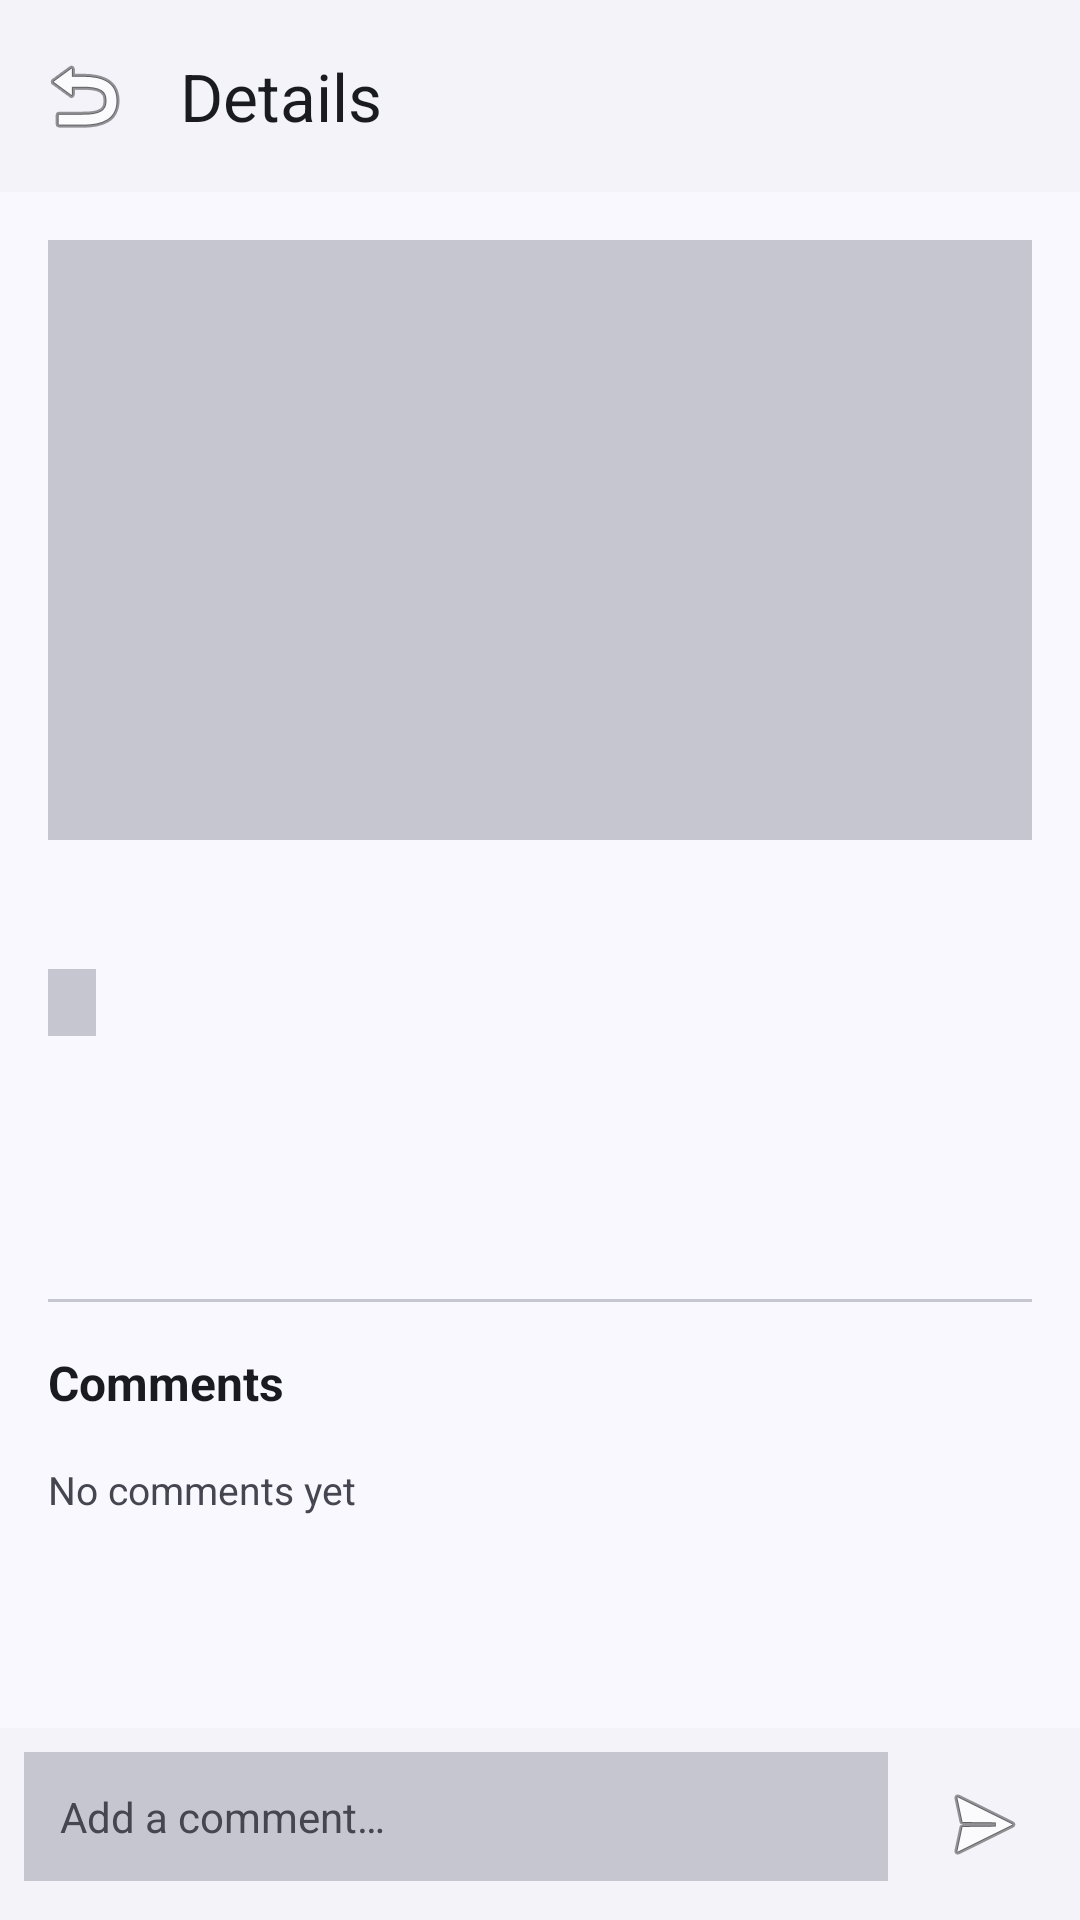

Screen size 1080w x 1920h. Icon name, then its center in pixels as [x,y]:
Send: [985,1824]
